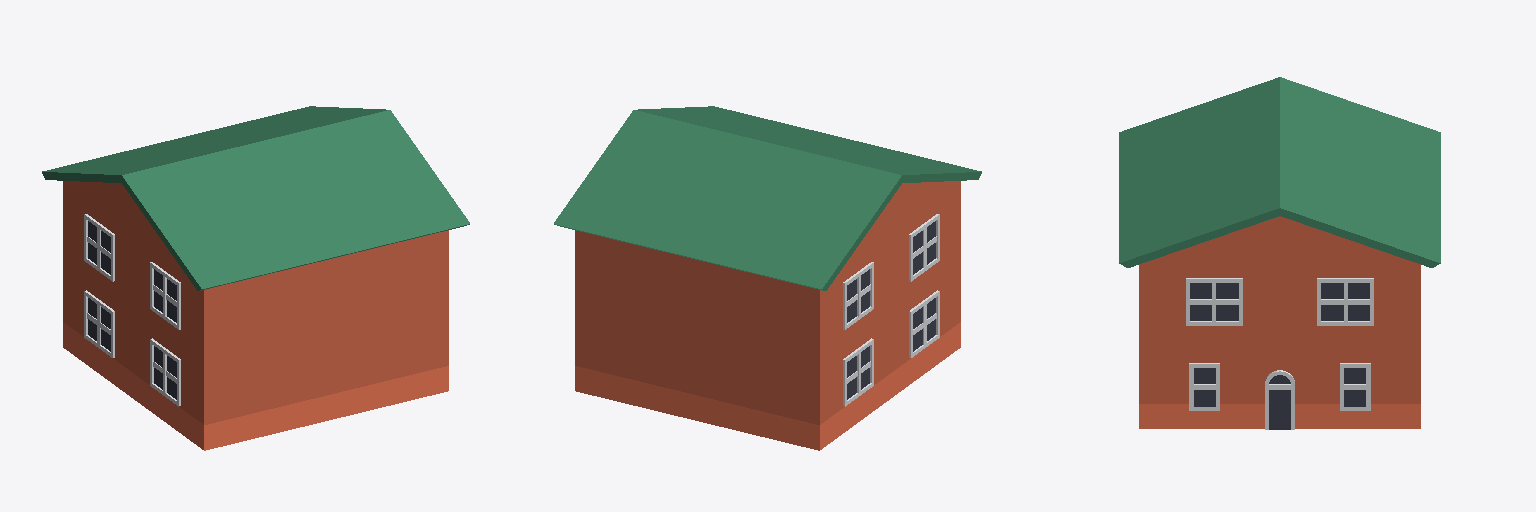
3 views of the same model, side by side, from view 1: azimuth 30°, elevation 25°; view 2: azimuth 150°, elevation 25°; view 3: azimuth 270°, elevation 25° (orthographic).
Parts seen in each view (by area): view 1: block_50, roof_51, window_wide_59, window_wide_60, window_wide_62, window_wide_61; view 2: block_50, roof_51, window_wide_59, window_wide_60, window_wide_61, window_wide_62; view 3: roof_51, block_50, window_wide_53, window_wide_58, door_rounded_52, window_54, window_55.
Part boxes in pixels (x1,y1,x2,y2): block_50: (63, 181, 448, 450); roof_51: (42, 106, 469, 290); window_wide_59: (84, 214, 114, 281); window_wide_60: (150, 262, 180, 329); window_wide_62: (150, 338, 180, 406); window_wide_61: (84, 290, 114, 357); block_50: (575, 181, 960, 450); roof_51: (554, 106, 981, 290); window_wide_59: (843, 262, 873, 329); window_wide_60: (909, 214, 939, 281); window_wide_61: (843, 338, 873, 406); window_wide_62: (909, 290, 939, 357); roof_51: (1119, 77, 1440, 267); block_50: (1139, 259, 1420, 428); window_wide_53: (1186, 278, 1242, 325); window_wide_58: (1317, 278, 1373, 325); door_rounded_52: (1265, 370, 1294, 429); window_54: (1189, 363, 1219, 410); window_55: (1340, 363, 1370, 410).
Size of the model in its own units: 3.3 by 2.66 by 3.42.